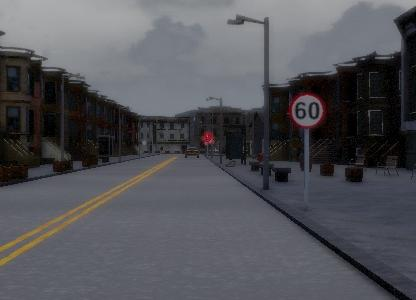Speed_60: (288, 92, 328, 131)
